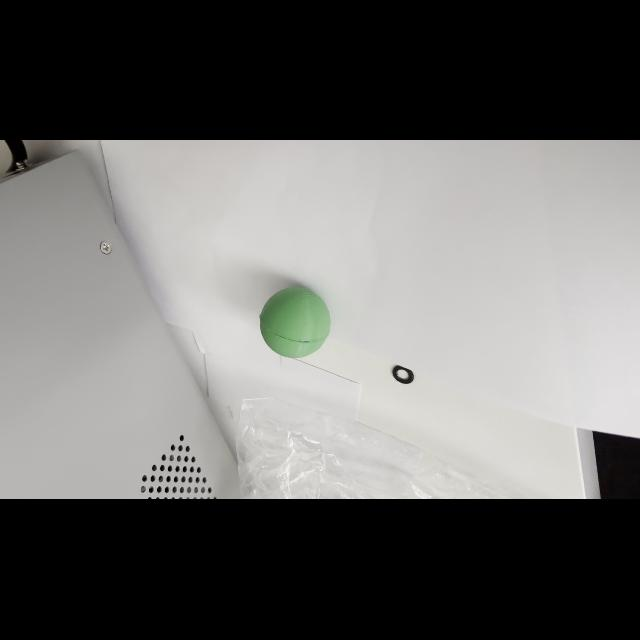objects: (254, 281, 334, 361)
